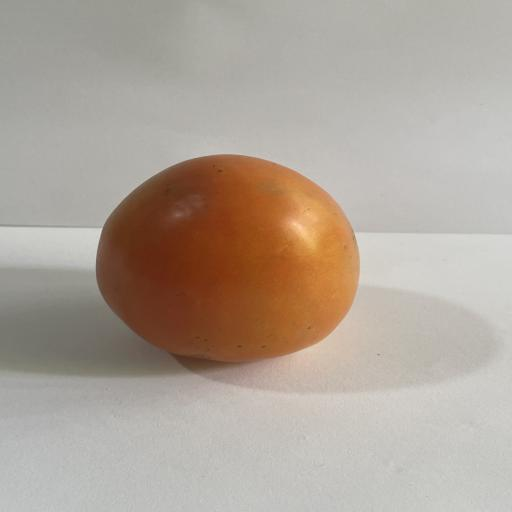unripe: (96, 155, 359, 361)
